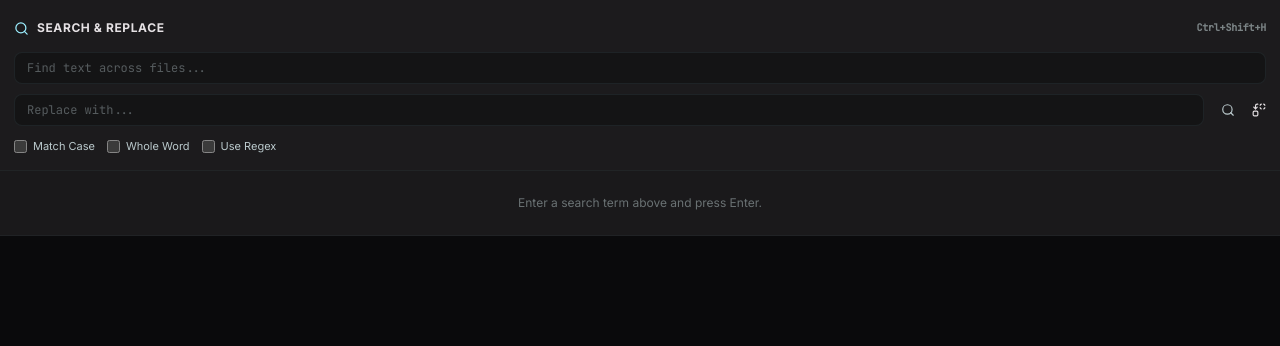
Phase 1: Search & Replace Across Files › displays error banner when replace is blocked in Restricted Mode (403)
Type "test" into the field with test id "search-query-input". click: (640,68)
box: [14,52,1266,84]
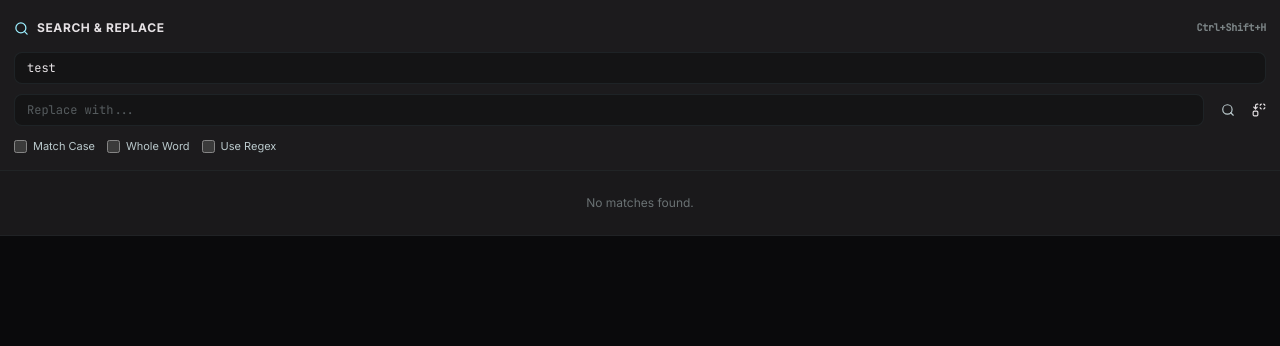
Type "prod" into the field with test id "replace-query-input". click: (609,110)
box: [14,94,1204,126]
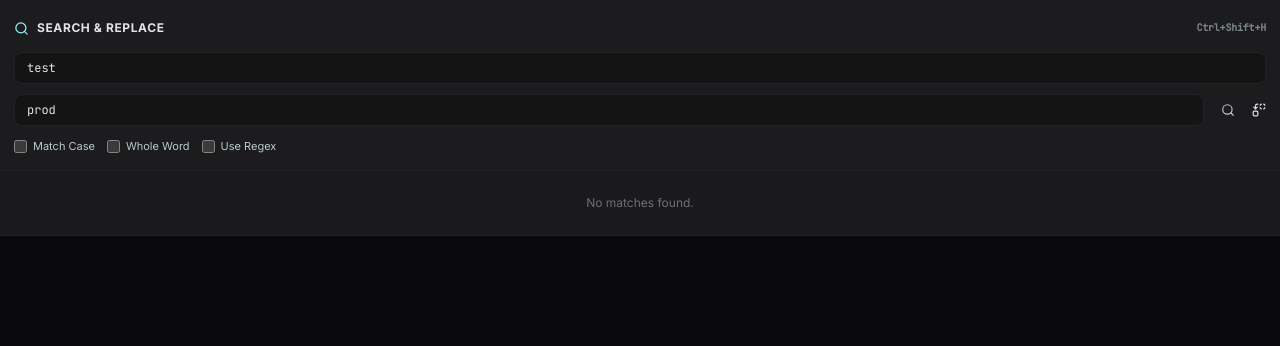
Click the button with test id "search-submit-btn". click: (1228,110)
box: [1212,94,1244,126]
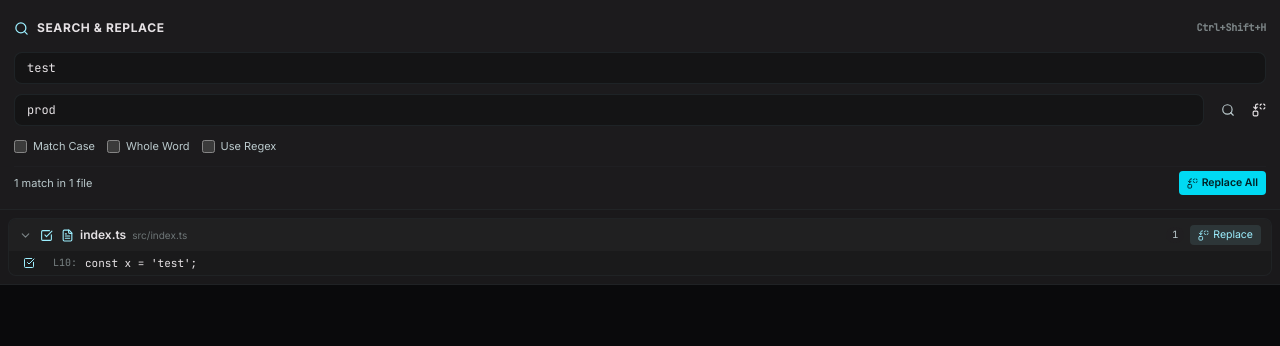
Click the button with test id "replace-file-btn". click: (1226,235)
box: [1190,225,1261,245]
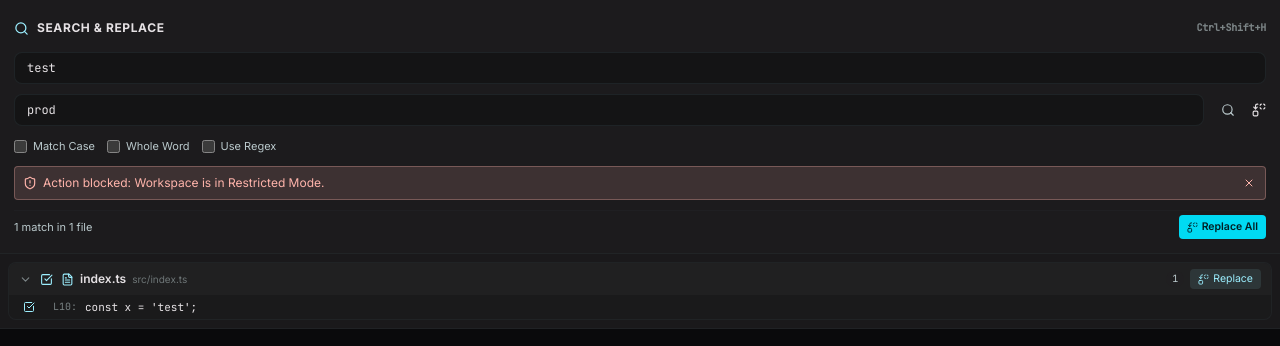
expect the element with test id "search-error-banner" is shown: met, box [14,166,1266,200]
expect the text "Action blocked: Workspace is in Restricted Mode." is shown: met, box [43,175,324,191]
